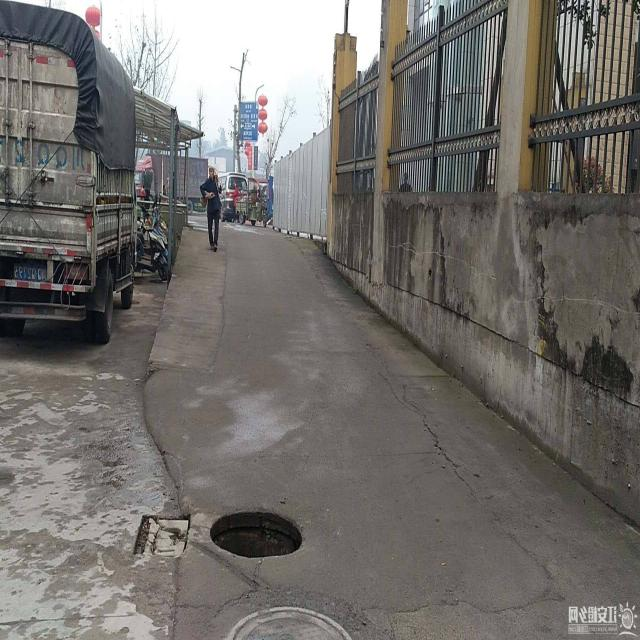manhole-cover: (196, 479, 307, 599)
pothole: (128, 502, 196, 570)
